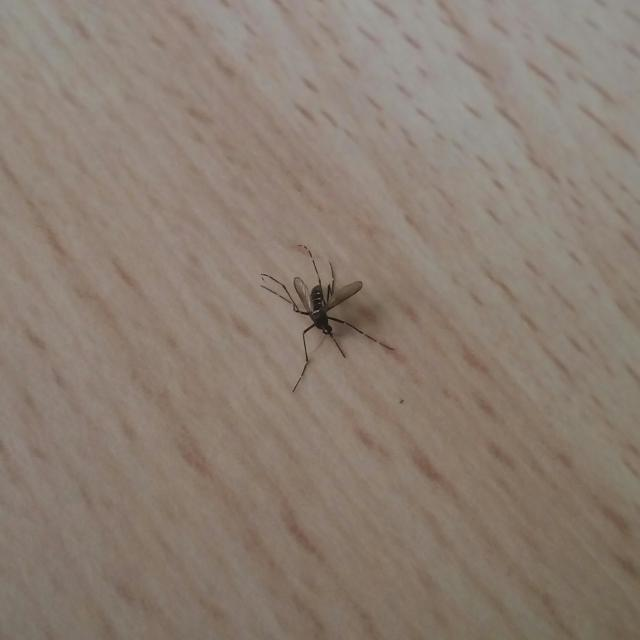albopictus: (254, 234, 393, 395)
